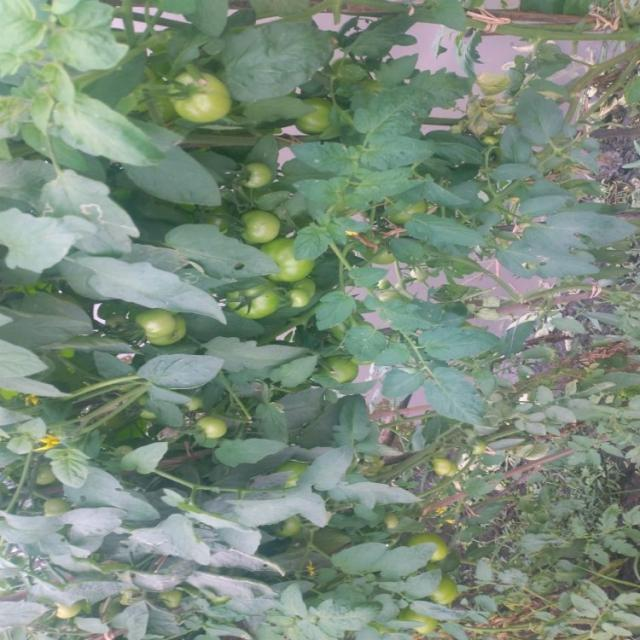tomato: (259, 231, 322, 297), (165, 67, 225, 131), (221, 276, 287, 327), (293, 94, 344, 136), (143, 304, 186, 347), (196, 408, 251, 440), (411, 534, 453, 575), (232, 208, 283, 241), (233, 157, 281, 190), (429, 577, 458, 617), (276, 514, 310, 544), (320, 353, 349, 388), (431, 449, 463, 478), (40, 491, 74, 518)
